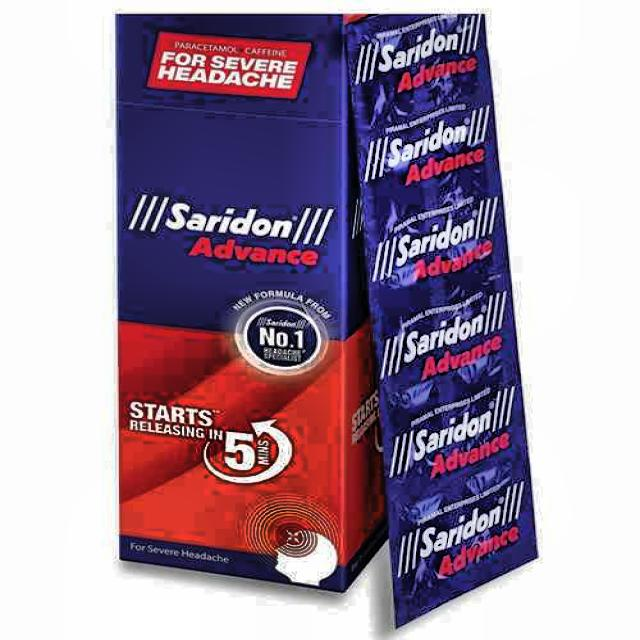Saridon: (348, 46, 532, 584), (122, 149, 349, 323)
